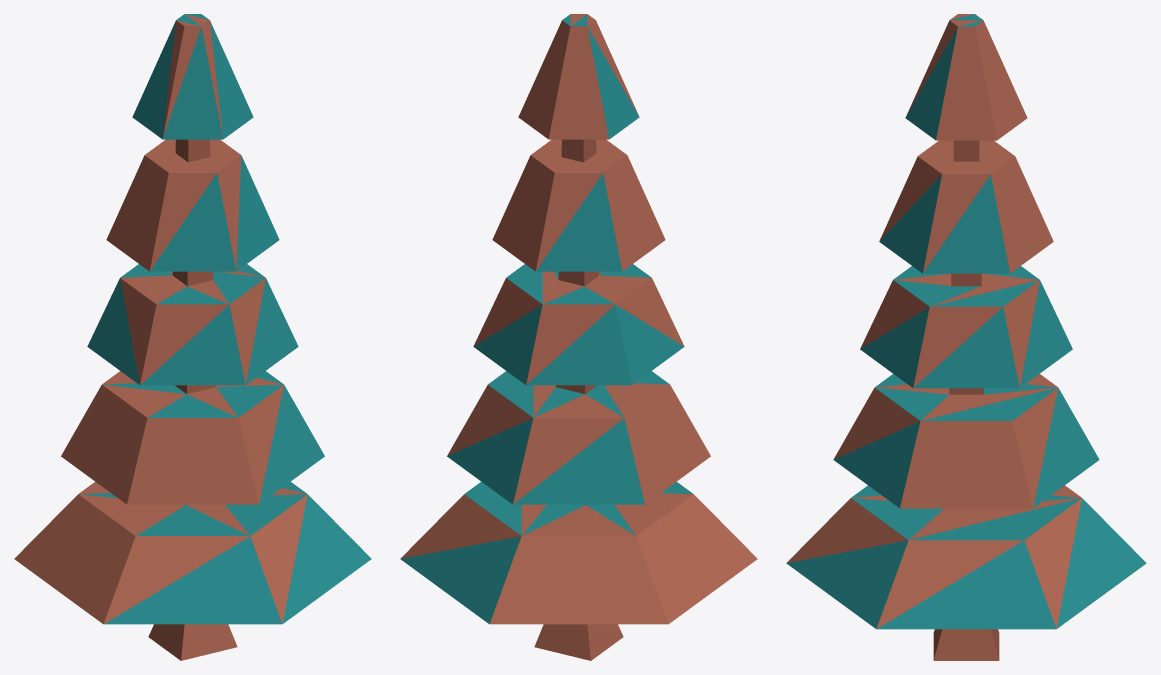
The model's file is tree-pine.glb.
3 views of the same model, side by side, from view 1: azimuth 30°, elevation 25°; view 2: azimuth 150°, elevation 25°; view 3: azimuth 270°, elevation 25° (orthographic).
Size of the model in its own units: 0.8128 by 1.8 by 0.9385.
